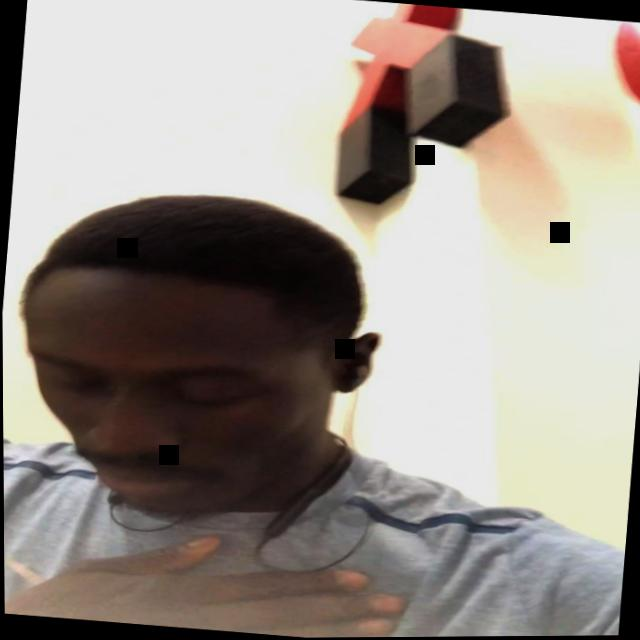NO-Mask: (11, 275, 361, 534)
